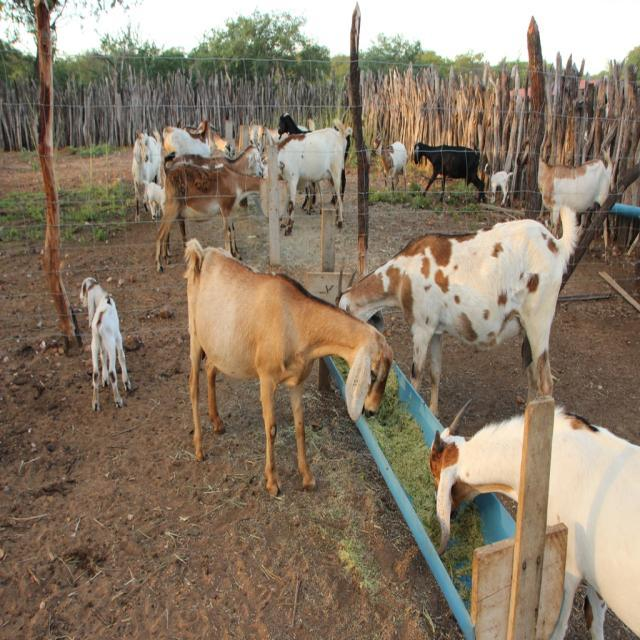Goat: (182, 235, 393, 497), (337, 203, 582, 420), (429, 398, 639, 638), (154, 143, 269, 273), (263, 117, 353, 235), (518, 146, 616, 245), (79, 276, 131, 411), (413, 141, 488, 204), (131, 129, 161, 222), (373, 136, 408, 191)
